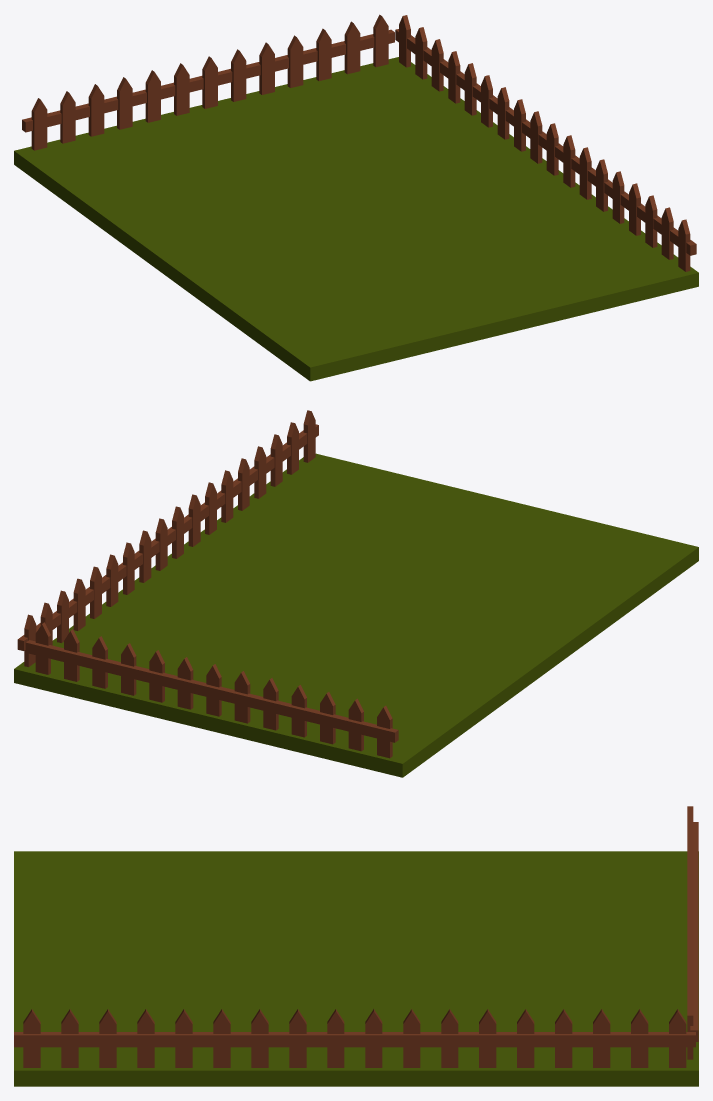
Rendered from GardenPatch.fbx.
The picture shows the model from 3 angles, top to bottom: view 1: azimuth 30°, elevation 25°; view 2: azimuth 150°, elevation 25°; view 3: azimuth 270°, elevation 25°; orthographic projection. The views are drawn at different scales.
Parts seen in each view (by area): view 1: Ground; view 2: Ground; view 3: Ground.
Part boxes in pixels (left/top/right/bottom): Ground: left=14, top=14, right=698, bottom=381; Ground: left=14, top=410, right=698, bottom=777; Ground: left=14, top=806, right=698, bottom=1086.
Bounding box in the file's own units: 3558 × 554 × 4696.
